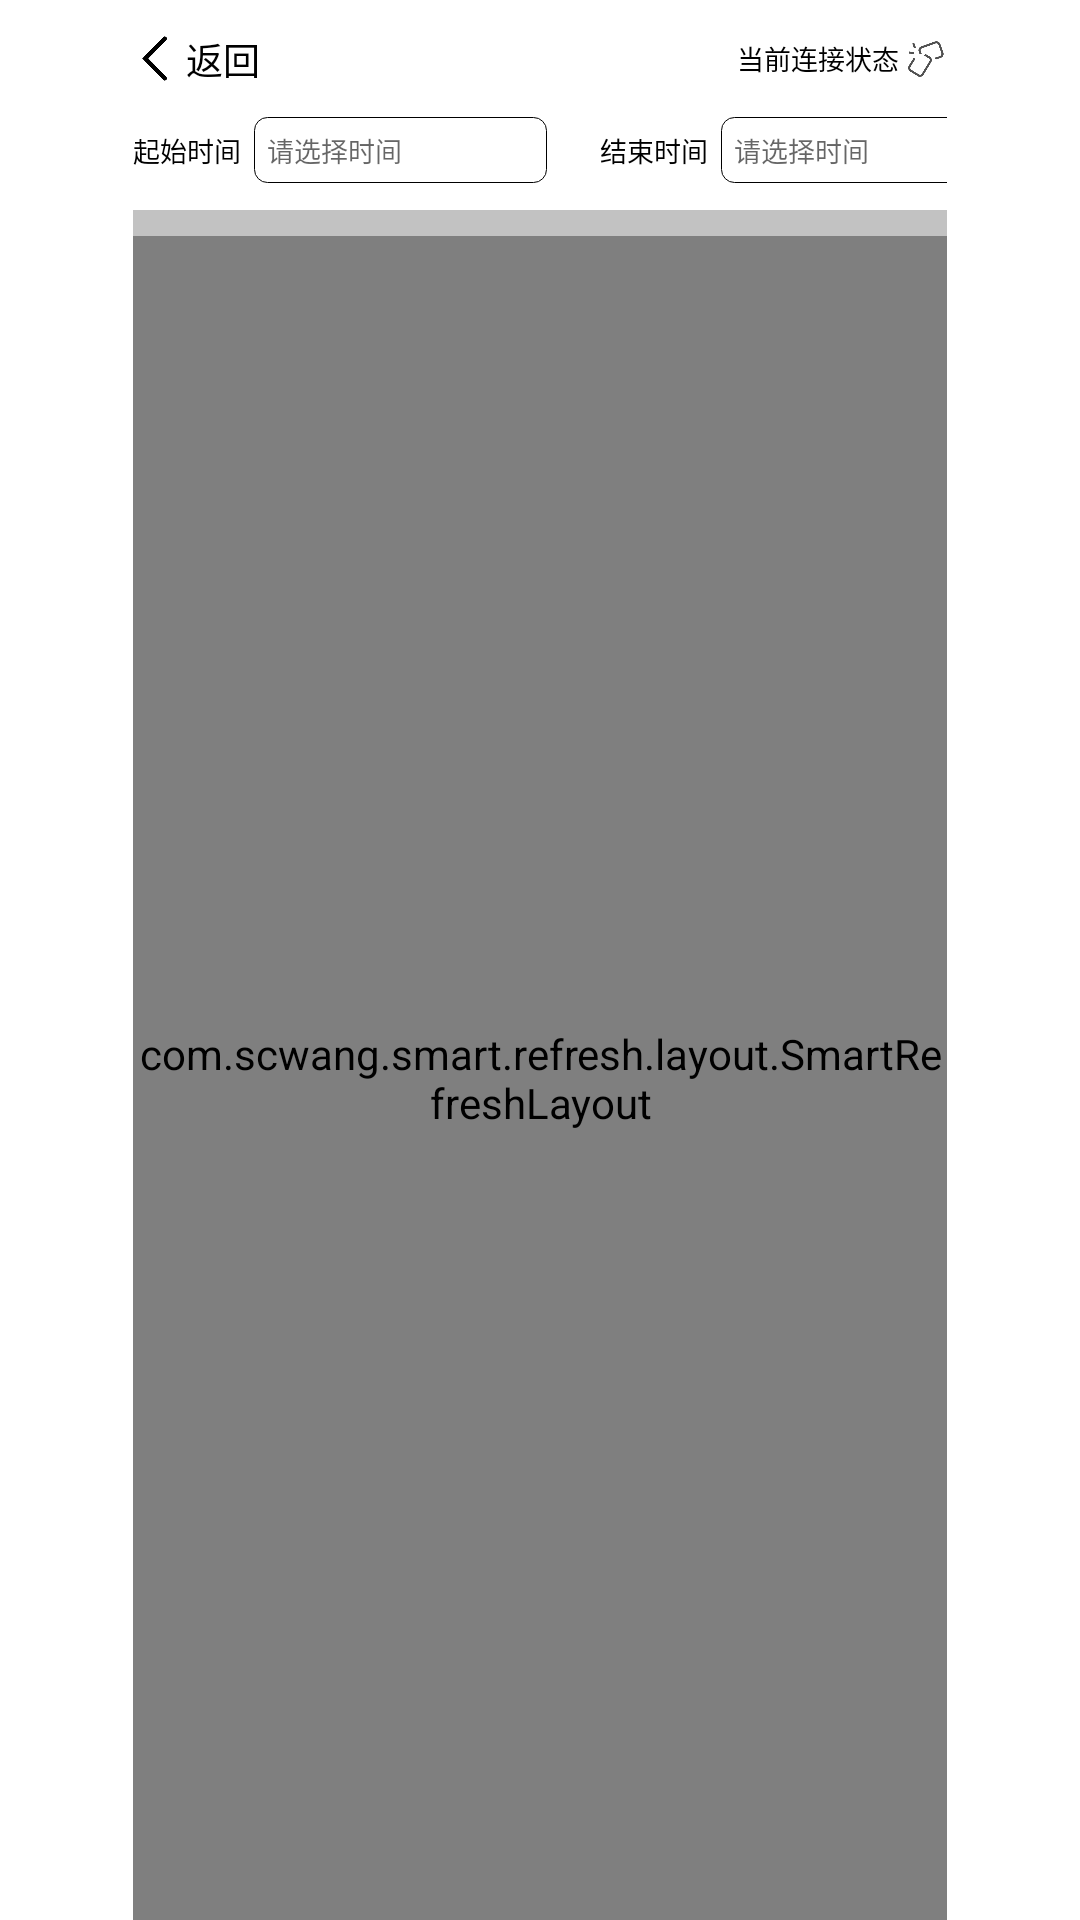

Point at icon controls on the screen. Image size 1080*1920, points as (x,y).
disconnect: (926,59)
